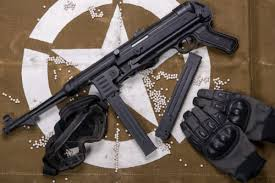gun: (2, 1, 240, 157)
